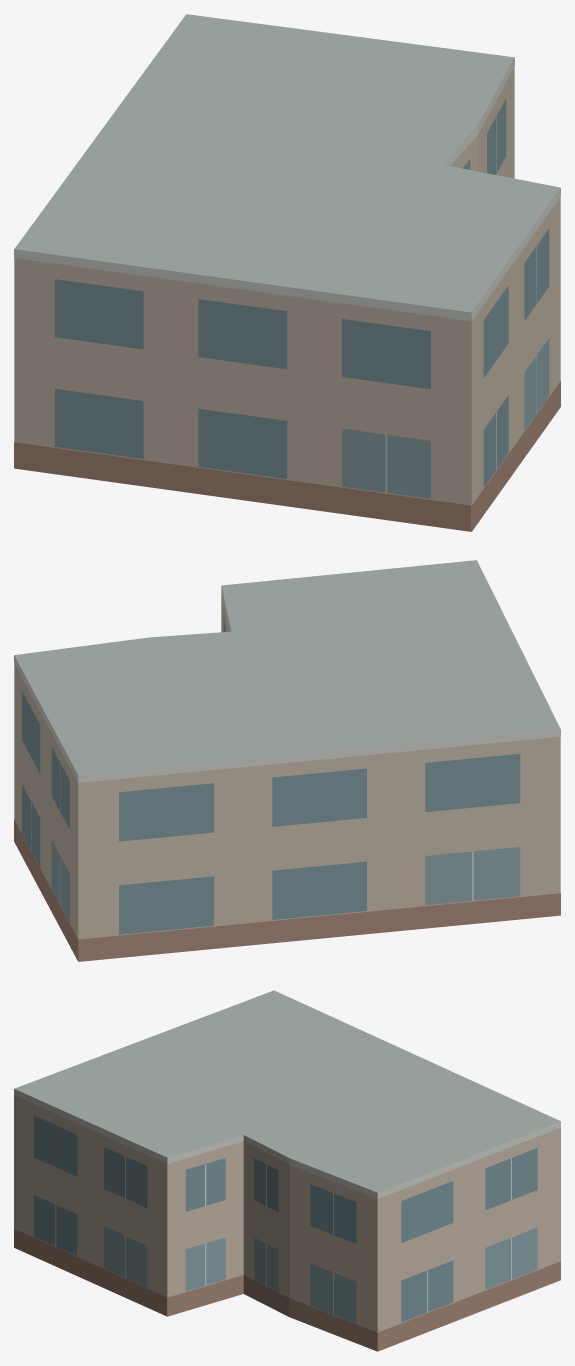
Rendered from survey-upis-32625315.glb.
3 renders of one model, top to bottom at view 1: azimuth 30°, elevation 25°; view 2: azimuth 150°, elevation 25°; view 3: azimuth 270°, elevation 25°, orthographic. The views are drawn at different scales.
Visible parts, largest first — view 1: survey-upis-32625315.tmp; view 2: survey-upis-32625315.tmp; view 3: survey-upis-32625315.tmp.
Part boxes in pixels (x1=…): survey-upis-32625315.tmp: x1=14, y1=14, x2=560, y2=531; survey-upis-32625315.tmp: x1=14, y1=560, x2=560, y2=961; survey-upis-32625315.tmp: x1=14, y1=990, x2=560, y2=1351.
Bounding box in the file's own units: 16.66 × 6.1 × 19.02.
